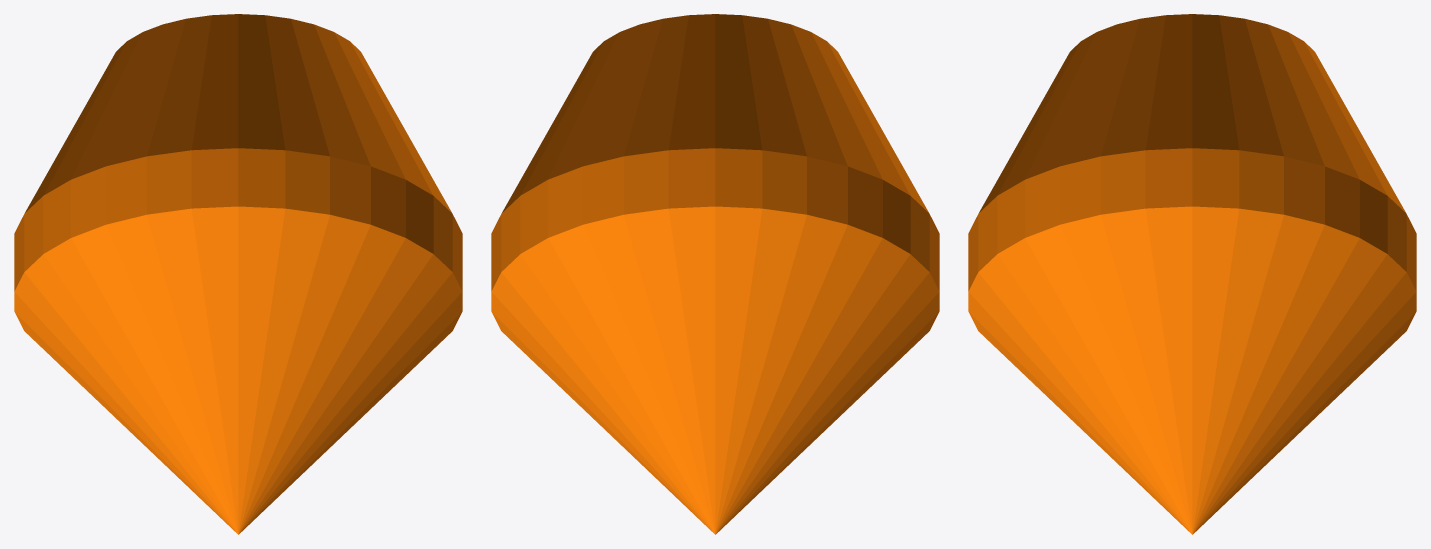
The picture shows the model from 3 angles, left to right: view 1: azimuth 30°, elevation 25°; view 2: azimuth 150°, elevation 25°; view 3: azimuth 270°, elevation 25°; orthographic projection.
Visible parts, largest first — view 1: algeomath; view 2: algeomath; view 3: algeomath.
Part boxes in pixels (<box>): algeomath: <box>14,14,462,534</box>; algeomath: <box>491,14,939,534</box>; algeomath: <box>968,14,1416,534</box>.
Size of the model in its own units: 7 by 8 by 6.96.
1 material, 1 textured.
